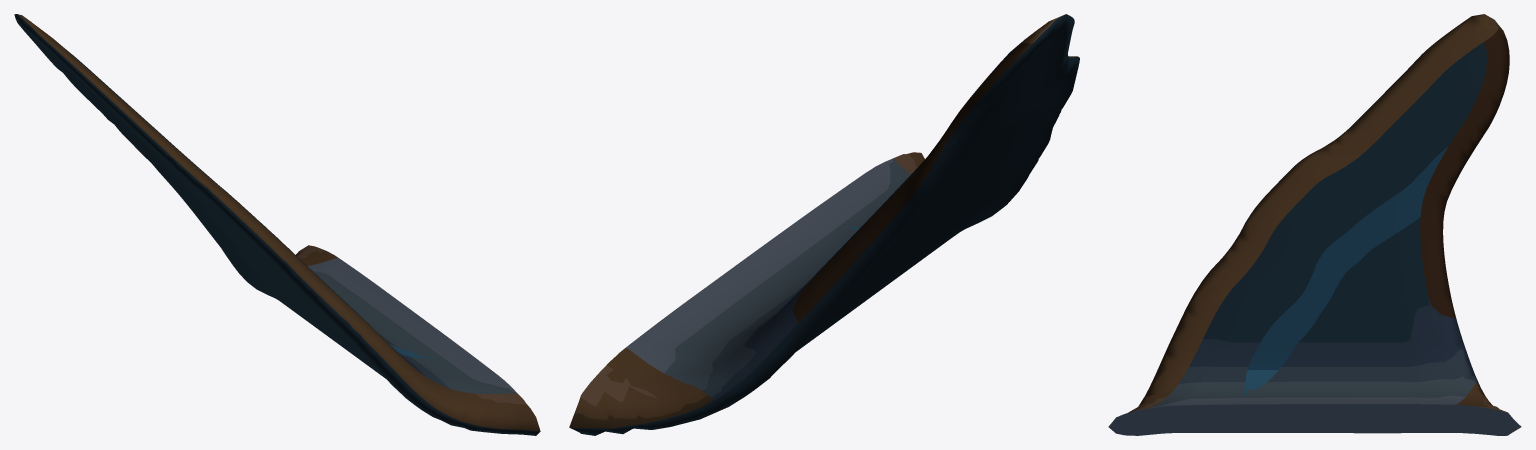
File: coral_manta_wing_165.glb
3 views of the same model, side by side, from view 1: azimuth 30°, elevation 25°; view 2: azimuth 150°, elevation 25°; view 3: azimuth 270°, elevation 25° (orthographic). The views are drawn at different scales.
Visible parts, largest first — view 1: coral_manta_wing_165; view 2: coral_manta_wing_165; view 3: coral_manta_wing_165.
Boxes of the visible parts, box(x1,y1,x2,y2) form: coral_manta_wing_165: box(14, 14, 540, 435); coral_manta_wing_165: box(569, 14, 1079, 435); coral_manta_wing_165: box(1108, 14, 1521, 435).
Size of the model in its own units: 16.59 by 17.82 by 22.68.
